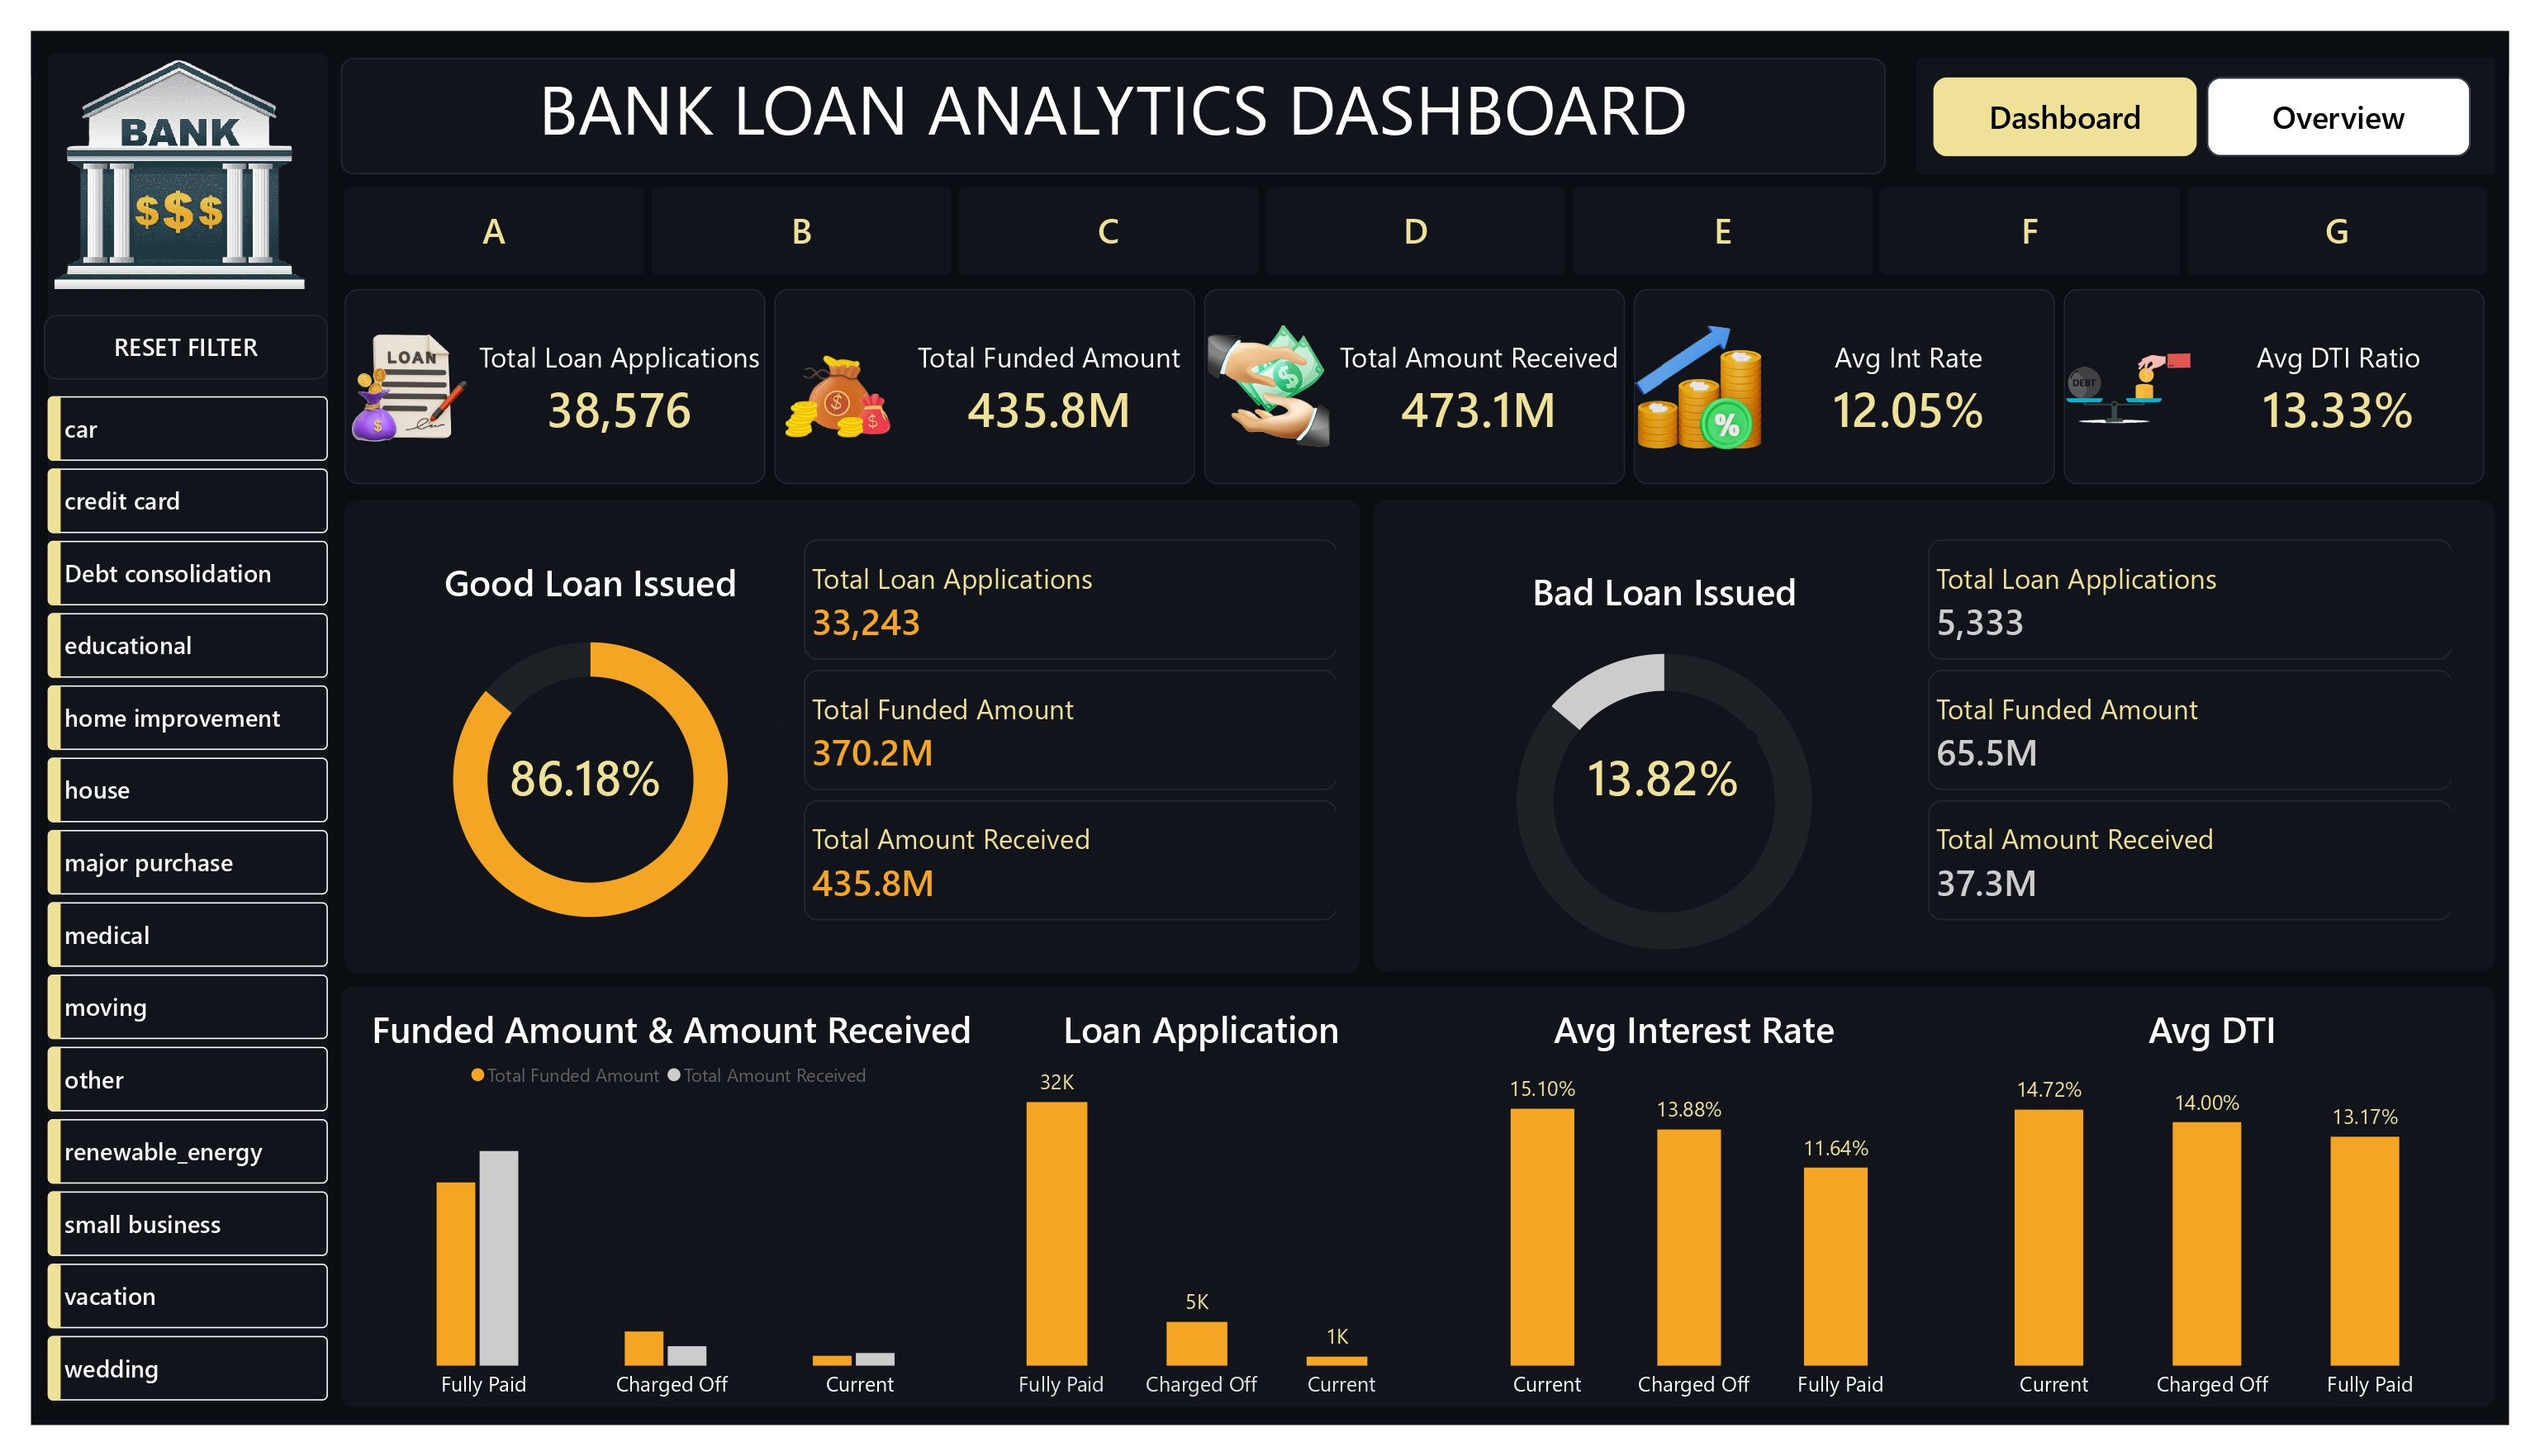

The page's visual inventory and layout, read from the dashboard file:
{"tool":"powerbi","page":{"name":"Summary","canvas":[1920,1080],"ordinal":0},"visuals":[{"type":"cardVisual","fields":{"Data":["financial_loan.Total Loan Application","financial_loan.Total Funded Amount","financial_loan.Total Amount Received","financial_loan.Average Interest Rate","financial_loan.Average DTI Rate"]},"box":[250,187.8,1653.3,153.3],"z":0},{"type":"donutChart","title":"Good Loan Application","fields":{"Category":["financial_loan.Good_vs_Bad_Loan"],"Y":["financial_loan.Total Loan Application"]},"box":[272.9,368.6,421.4,342.9],"z":1000},{"type":"donutChart","title":"Bad Loan Application","fields":{"Category":["financial_loan.Good_vs_Bad_Loan"],"Y":["financial_loan.Total Loan Application"]},"box":[1077.1,368.6,421.4,342.9],"z":2000},{"type":"cardVisual","fields":{"Data":["financial_loan.Good Loan %"]},"box":[394.3,514.3,180,88.6],"z":3000},{"type":"cardVisual","fields":{"Data":["financial_loan.Bad Loan %"]},"box":[1197.1,514.3,180,88.6],"z":4000},{"type":"cardVisual","fields":{"Data":["financial_loan.Total Loan Application","financial_loan.Total Funded Amount","financial_loan.Total Amount Received"],"Rows":["financial_loan.Good_vs_Bad_Loan"]},"box":[651.4,368.6,350,342.9],"z":5000},{"type":"cardVisual","fields":{"Data":["financial_loan.Total Loan Application","financial_loan.Total Funded Amount","financial_loan.Total Amount Received"],"Rows":["financial_loan.Good_vs_Bad_Loan"]},"box":[1538.6,368.6,350,342.9],"z":6000},{"type":"clusteredColumnChart","title":"Funded Amount vs Repayment","fields":{"Category":["financial_loan.LOAN_STATUS"],"Y":["financial_loan.Total Funded Amount","financial_loan.Total Amount Received"]},"box":[250,761.4,412.9,305.7],"z":7000},{"type":"clusteredColumnChart","title":"Loan Application","fields":{"Category":["financial_loan.LOAN_STATUS"],"Y":["financial_loan.Total Loan Application"]},"box":[651.2,761.2,401.2,305],"z":8000},{"type":"textbox","box":[941.2,747.5,222.5,112.5],"z":9000},{"type":"clusteredColumnChart","title":"Average Interest Rate","fields":{"Category":["financial_loan.LOAN_STATUS"],"Y":["financial_loan.Average Interest Rate"]},"box":[1072.9,761.4,401.4,318.6],"z":10000},{"type":"clusteredColumnChart","title":"Average DTI Ratio","fields":{"Category":["financial_loan.LOAN_STATUS"],"Y":["financial_loan.Average DTI Ratio"]},"box":[1473.8,761.2,401.2,305],"z":11000},{"type":"image","box":[0,0,250,210],"z":12000},{"type":"advancedSlicerVisual","fields":{"Values":["financial_loan.PURPOSE"]},"box":[14.3,264.3,211.4,802.9],"z":13000},{"type":"advancedSlicerVisual","fields":{"Values":["financial_loan.GRADE"]},"box":[260,113,1643,44],"z":14000},{"type":"actionButton","box":[14.3,200,211.4,50],"z":15000},{"type":"textbox","box":[250,24.3,1197.1,68.6],"z":16000},{"type":"pageNavigator","box":[1488.6,24.3,400,50],"z":17000}]}

Visuals, with their boxes on the page's 1920x1080 design canvas (x1, y1, x2, y2). These are canvas units, not pixel positions in the 2540x1456 screenshot, which may show the page scaled, cropped or inside an application window:
cardVisual - financial_loan.Total Loan Application x financial_loan.Total Funded Amount: (x1=250, y1=188, x2=1903, y2=341)
"Good Loan Application" donutChart: (x1=273, y1=369, x2=694, y2=712)
"Bad Loan Application" donutChart: (x1=1077, y1=369, x2=1498, y2=712)
cardVisual - financial_loan.Good Loan %: (x1=394, y1=514, x2=574, y2=603)
cardVisual - financial_loan.Bad Loan %: (x1=1197, y1=514, x2=1377, y2=603)
cardVisual - financial_loan.Total Loan Application x financial_loan.Total Funded Amount: (x1=651, y1=369, x2=1001, y2=712)
cardVisual - financial_loan.Total Loan Application x financial_loan.Total Funded Amount: (x1=1539, y1=369, x2=1889, y2=712)
"Funded Amount vs Repayment" clusteredColumnChart: (x1=250, y1=761, x2=663, y2=1067)
"Loan Application" clusteredColumnChart: (x1=651, y1=761, x2=1052, y2=1066)
textbox: (x1=941, y1=748, x2=1164, y2=860)
"Average Interest Rate" clusteredColumnChart: (x1=1073, y1=761, x2=1474, y2=1080)
"Average DTI Ratio" clusteredColumnChart: (x1=1474, y1=761, x2=1875, y2=1066)
image: (x1=0, y1=0, x2=250, y2=210)
advancedSlicerVisual - financial_loan.PURPOSE: (x1=14, y1=264, x2=226, y2=1067)
advancedSlicerVisual - financial_loan.GRADE: (x1=260, y1=113, x2=1903, y2=157)
actionButton: (x1=14, y1=200, x2=226, y2=250)
textbox: (x1=250, y1=24, x2=1447, y2=93)
pageNavigator: (x1=1489, y1=24, x2=1889, y2=74)
